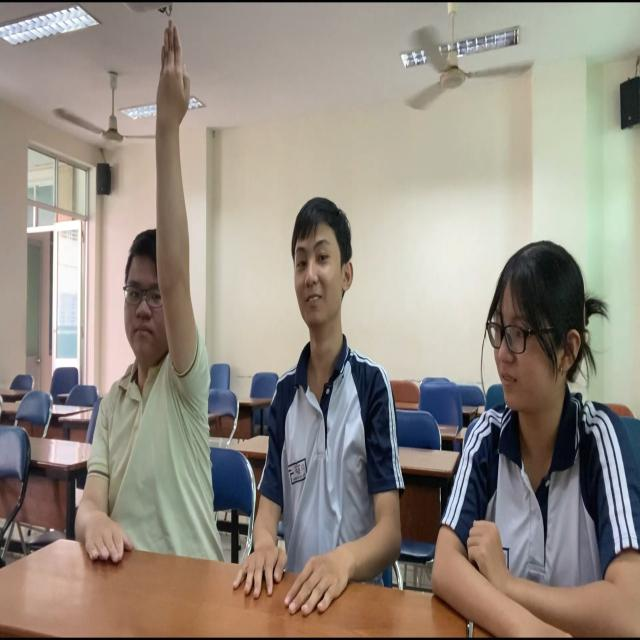raise_hand: (75, 12, 215, 584)
